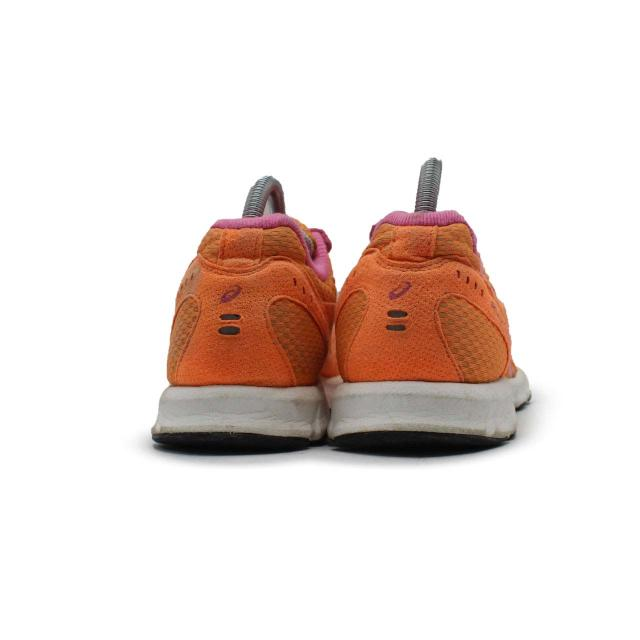heel: (329, 203, 503, 380), (157, 212, 316, 390)
midsole: (325, 386, 516, 452), (155, 381, 326, 449)
